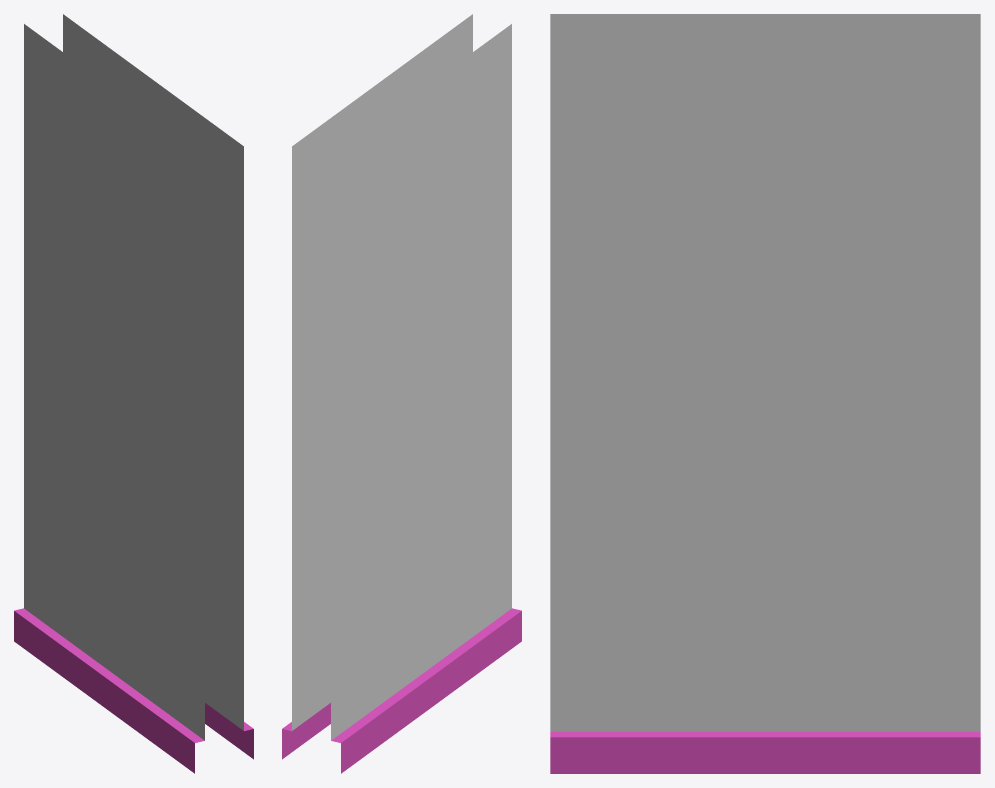
The model's file is Modulo_Pared_Plana_Doble.fbx.
The picture shows the model from 3 angles, left to right: view 1: azimuth 30°, elevation 25°; view 2: azimuth 150°, elevation 25°; view 3: azimuth 270°, elevation 25°; orthographic projection. The views are drawn at different scales.
Parts seen in each view (by area): view 1: Modulo_Pared_Plana_Double_Side; view 2: Modulo_Pared_Plana_Double_Side; view 3: Modulo_Pared_Plana_Double_Side.
Part boxes in pixels (x1,y1,x2,y2): Modulo_Pared_Plana_Double_Side: (14, 14, 253, 773); Modulo_Pared_Plana_Double_Side: (282, 14, 521, 773); Modulo_Pared_Plana_Double_Side: (550, 14, 980, 773).
Size of the model in its own units: 30 by 300 by 160.
